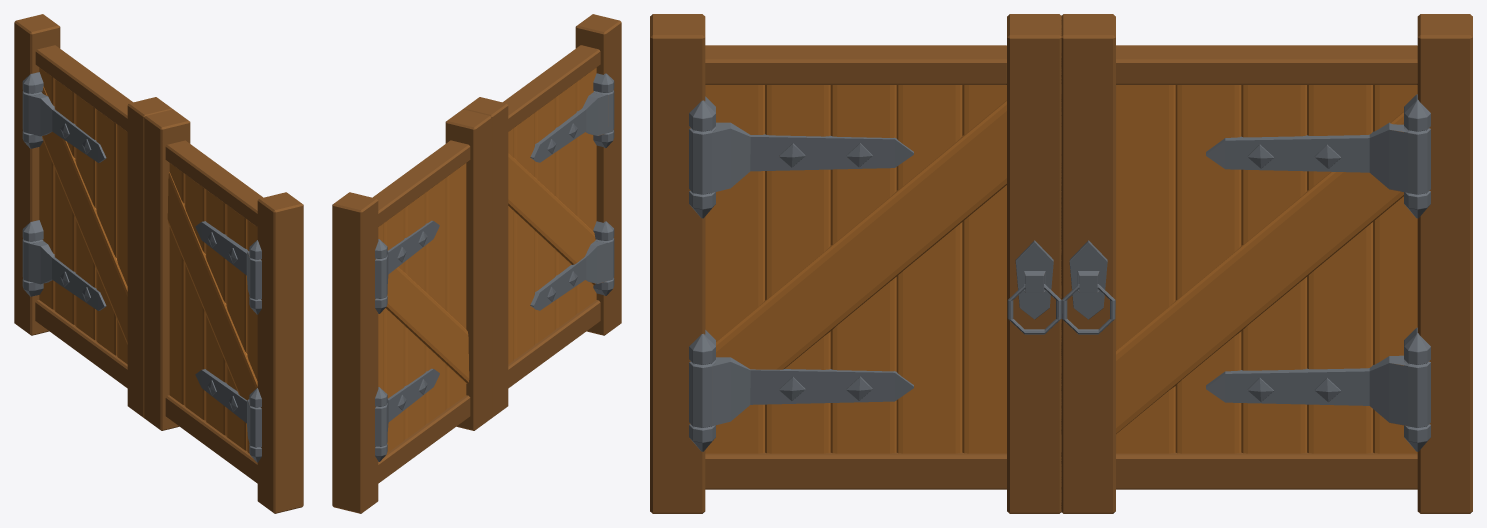
File: wooden_gate.glb
3 renders of one model, left to right at view 1: azimuth 30°, elevation 25°; view 2: azimuth 150°, elevation 25°; view 3: azimuth 270°, elevation 25°, orthographic. The views are drawn at different scales.
Parts seen in each view (by area): view 1: frame, frame.001, wooden_board.001, wooden_board, diag_board, diag_board.001, bottom_hinge.001, top_hinge.001, top_hinge, bottom_hinge; view 2: frame.001, frame, wooden_board, wooden_board.001, diag_board.001, diag_board, top_hinge, bottom_hinge, bottom_hinge.001, top_hinge.001; view 3: frame.001, wooden_board, frame, wooden_board.001, diag_board, diag_board.001, bottom_hinge.001, top_hinge.001, top_hinge, bottom_hinge, door_handle, door_handle.001.
Part boxes in pixels (<box>): frame: <box>144,109,303,513</box>; frame.001: <box>14,14,172,418</box>; wooden_board.001: <box>39,67,127,364</box>; wooden_board: <box>169,163,257,453</box>; diag_board: <box>167,172,257,404</box>; diag_board.001: <box>42,86,127,344</box>; bottom_hinge.001: <box>22,220,106,310</box>; top_hinge.001: <box>22,72,106,162</box>; top_hinge: <box>195,221,261,314</box>; bottom_hinge: <box>195,369,261,462</box>; frame.001: <box>332,109,491,513</box>; frame: <box>463,14,621,418</box>; wooden_board: <box>508,67,596,364</box>; wooden_board.001: <box>378,163,466,452</box>; diag_board.001: <box>385,267,469,383</box>; diag_board: <box>508,153,595,285</box>; top_hinge: <box>530,73,614,162</box>; bottom_hinge: <box>530,221,614,310</box>; bottom_hinge.001: <box>375,368,439,461</box>; top_hinge.001: <box>375,220,439,313</box>; frame.001: <box>1061,14,1472,513</box>; wooden_board: <box>705,85,1006,453</box>; frame: <box>650,14,1061,513</box>; wooden_board.001: <box>1116,85,1417,453</box>; diag_board: <box>716,100,1006,369</box>; diag_board.001: <box>1116,111,1403,433</box>; bottom_hinge.001: <box>1206,327,1430,451</box>; top_hinge.001: <box>1206,94,1430,218</box>; top_hinge: <box>689,96,913,218</box>; bottom_hinge: <box>689,330,913,451</box>; door_handle: <box>1015,240,1053,319</box>; door_handle.001: <box>1069,240,1107,319</box>.
Bounding box in the file's own units: 0.6615 × 4.2 × 6.54.
Materials: 1 (1 with a texture image).
